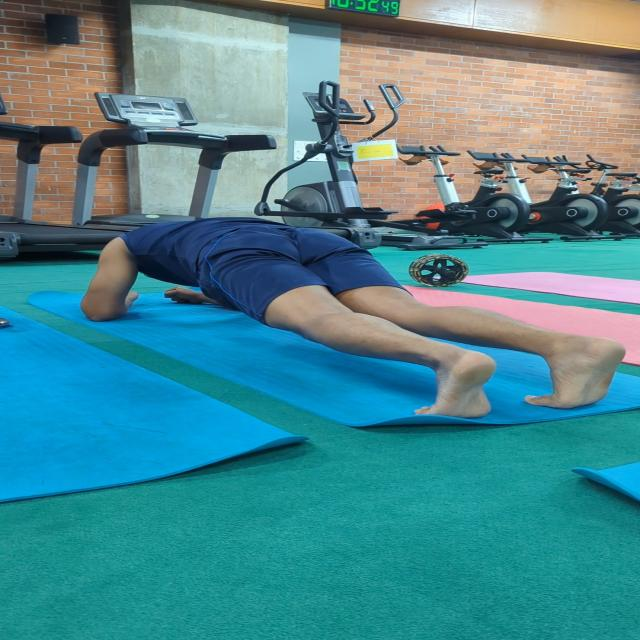Normal_Plunk: (81, 212, 640, 432)
